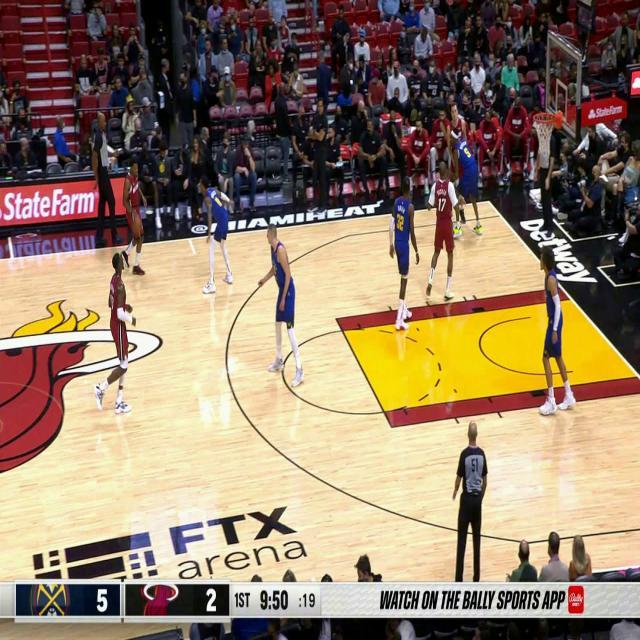rim: (132, 218, 142, 240)
